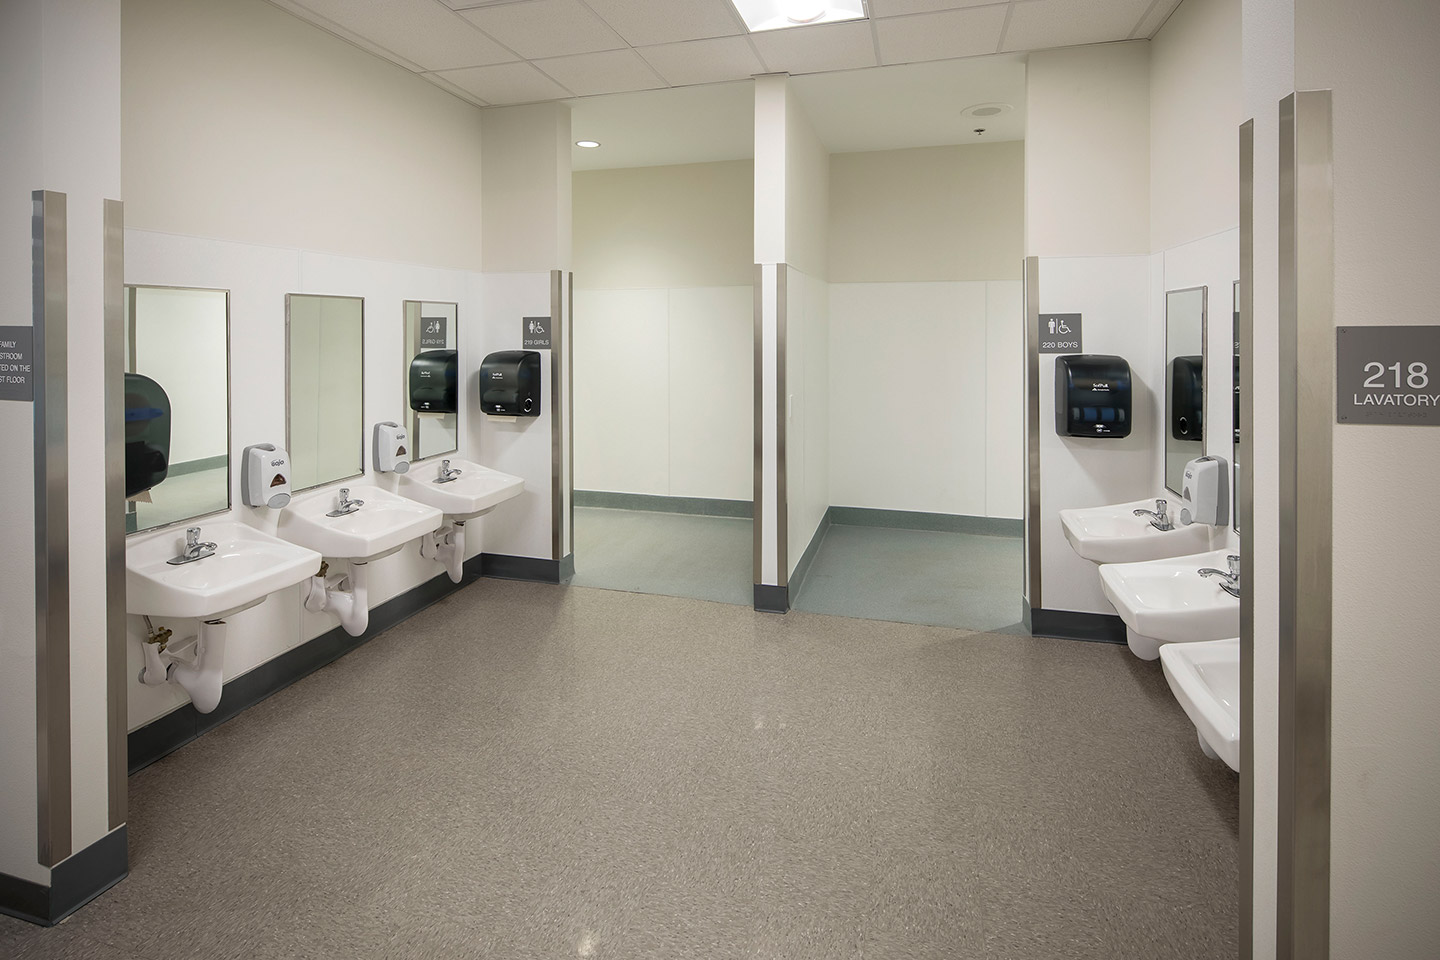dispenser: (112, 375, 184, 514), (1166, 355, 1246, 440), (1054, 354, 1134, 439), (476, 337, 546, 419), (1181, 449, 1232, 530), (237, 440, 290, 513), (407, 350, 460, 417), (373, 419, 410, 474)
faucet: (166, 525, 222, 560), (1198, 554, 1241, 599), (1134, 501, 1171, 532), (327, 487, 365, 517), (434, 460, 462, 485)
sink: (124, 517, 324, 617), (1099, 550, 1248, 642), (1155, 639, 1254, 767), (274, 485, 442, 559), (1057, 496, 1213, 562), (401, 456, 526, 519)
